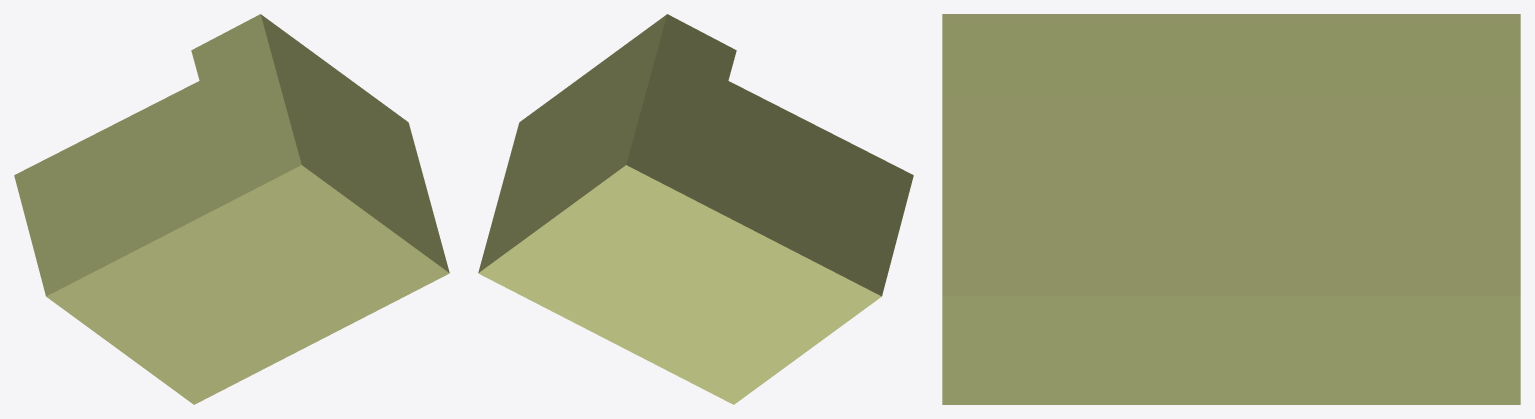
3 renders of one model, left to right at view 1: azimuth 30°, elevation 25°; view 2: azimuth 150°, elevation 25°; view 3: azimuth 270°, elevation 25°, orthographic. The views are drawn at different scales.
Parts seen in each view (by area): view 1: 0_1_0_0_1_0_1_3_2_0_3; view 2: 0_1_0_0_1_0_1_3_2_0_3; view 3: 0_1_0_0_1_0_1_3_2_0_3.
Part boxes in pixels (x1,y1,x2,y2): 0_1_0_0_1_0_1_3_2_0_3: [14, 14, 449, 404]; 0_1_0_0_1_0_1_3_2_0_3: [478, 14, 913, 404]; 0_1_0_0_1_0_1_3_2_0_3: [942, 14, 1520, 404].
Bounding box in the file's own units: 10.09 × 7.72 × 9.
